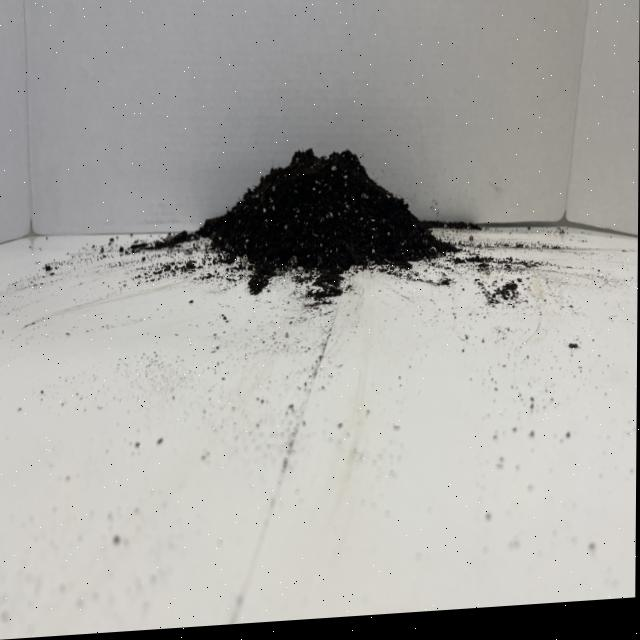soil: (194, 135, 459, 304)
